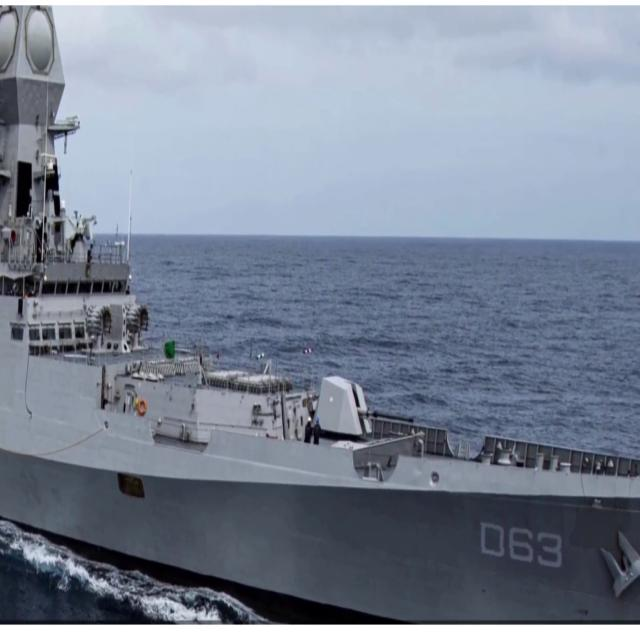OCR: (476, 513, 564, 575)
